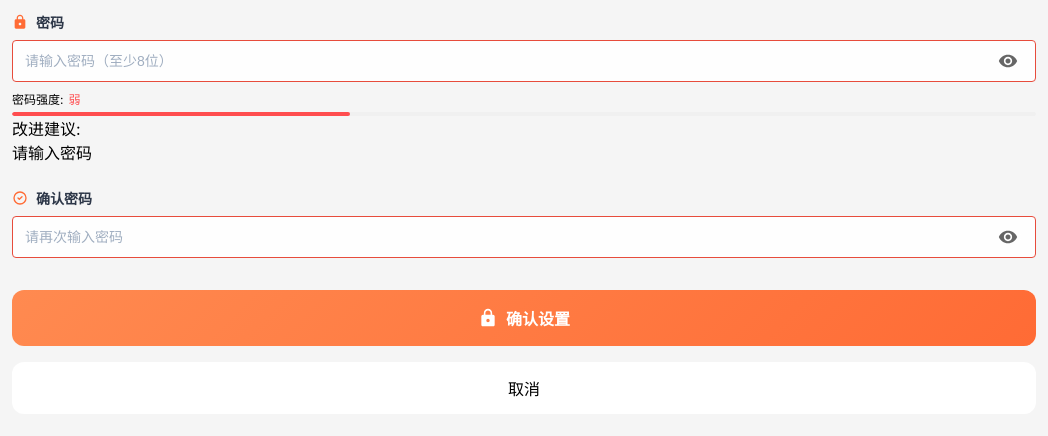
Scenario: PasswordSetupForm Component Tests › 应该验证两次密码输入的一致性
Type "TestPassword123!" into the password field with placeholder "请输入密码（至少8位）". click: (524, 61)
box: [12,40,1036,82]
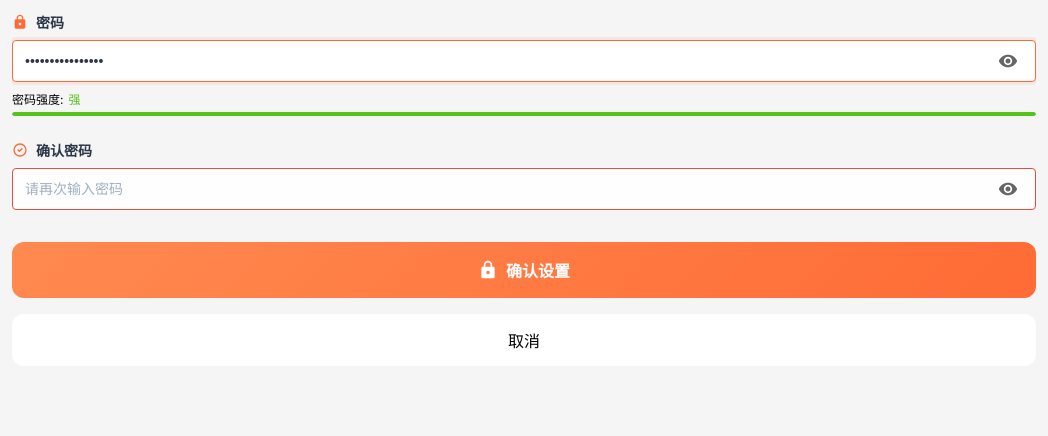
Type "DifferentPassword123!" into the password field with placeholder "请再次输入密码". click: (524, 189)
box: [12,168,1036,210]
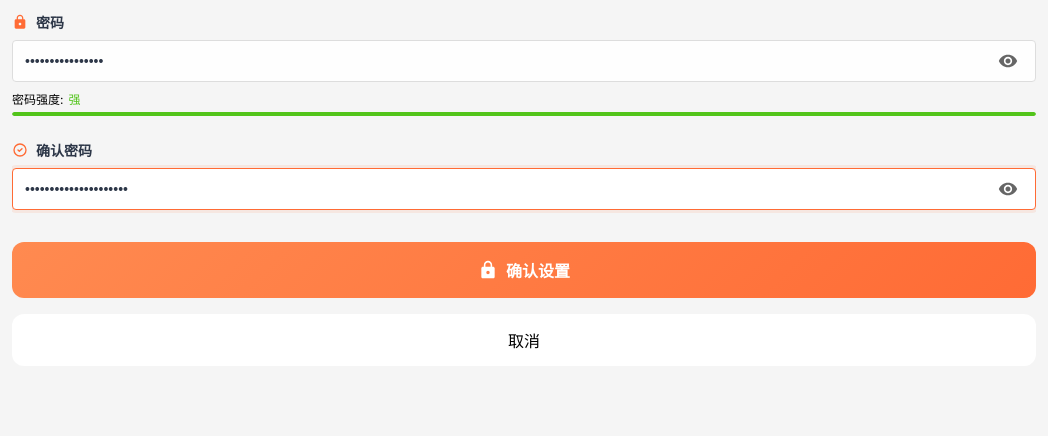
Click the button "确认设置". click: (524, 270)
box: [12,242,1036,298]
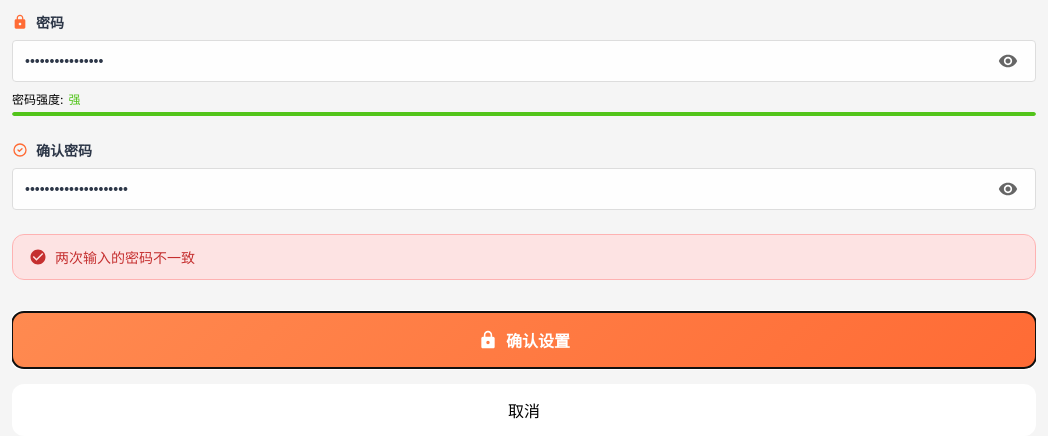
Expected: the text "两次输入的密码不一致" is shown, [12,234,1036,280]
